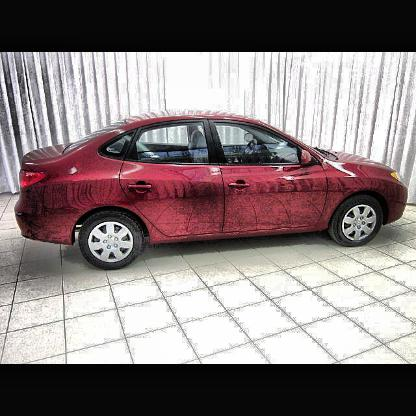Hyundai Elantra Sedan 2007: (14, 112, 411, 273)
